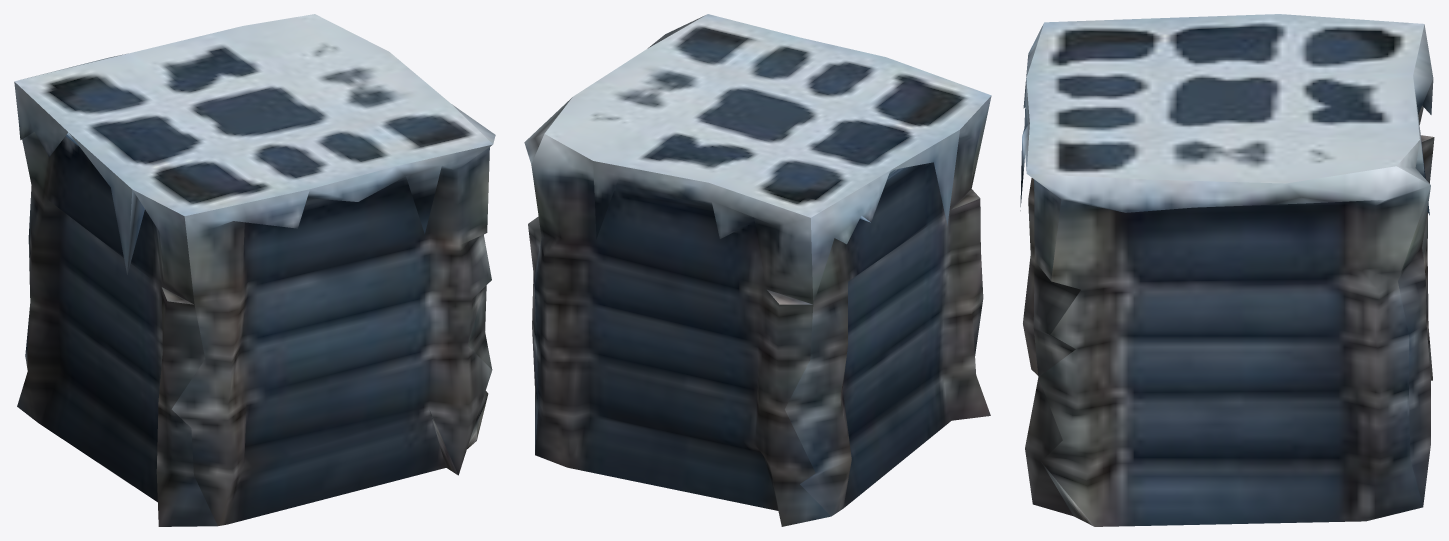
Rendered from b_givre_mur_3.glb.
3 views of the same model, side by side, from view 1: azimuth 30°, elevation 25°; view 2: azimuth 150°, elevation 25°; view 3: azimuth 270°, elevation 25° (orthographic). The views are drawn at different scales.
Visible parts, largest first — view 1: geometry_0; view 2: geometry_0; view 3: geometry_0.
Boxes of the visible parts, x1=… form: geometry_0: x1=14, y1=14, x2=495, y2=526; geometry_0: x1=524, y1=14, x2=991, y2=526; geometry_0: x1=1020, y1=14, x2=1434, y2=526.
Size of the model in its own units: 1 by 0.9713 by 1.
1 material, 1 textured.
